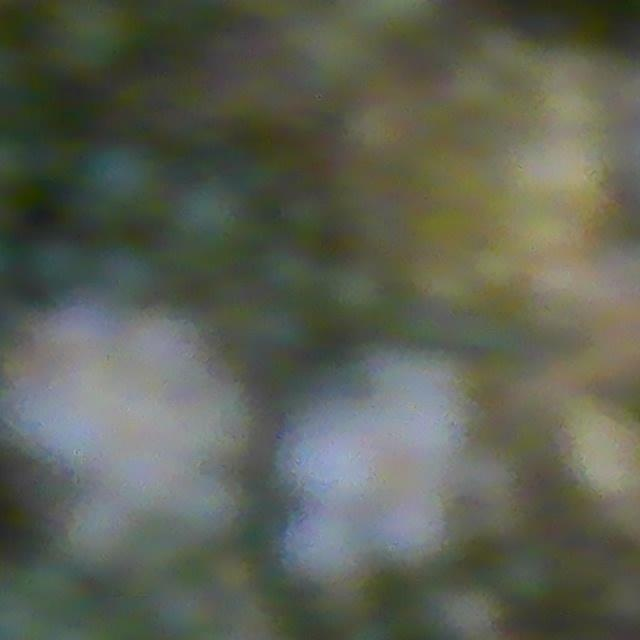SeaGrape: (173, 396, 256, 476), (80, 141, 161, 222), (48, 0, 137, 73), (292, 413, 370, 496), (170, 177, 247, 255), (136, 312, 206, 393), (13, 369, 76, 459), (421, 578, 505, 640), (383, 486, 443, 563), (289, 506, 349, 579), (399, 379, 456, 449), (93, 399, 156, 459), (46, 320, 109, 379), (179, 476, 236, 539), (76, 506, 133, 559), (116, 466, 173, 513)
